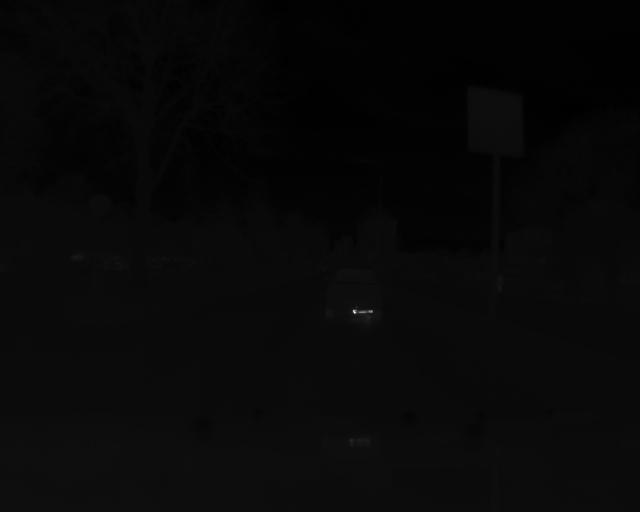car: (321, 257, 391, 322)
